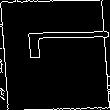L_E: (1, 39, 109, 71)
